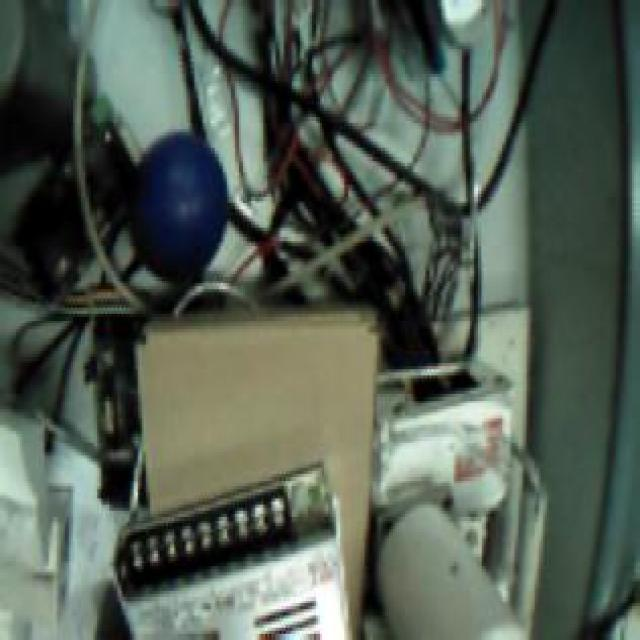BallPurple: (130, 132, 228, 284)
